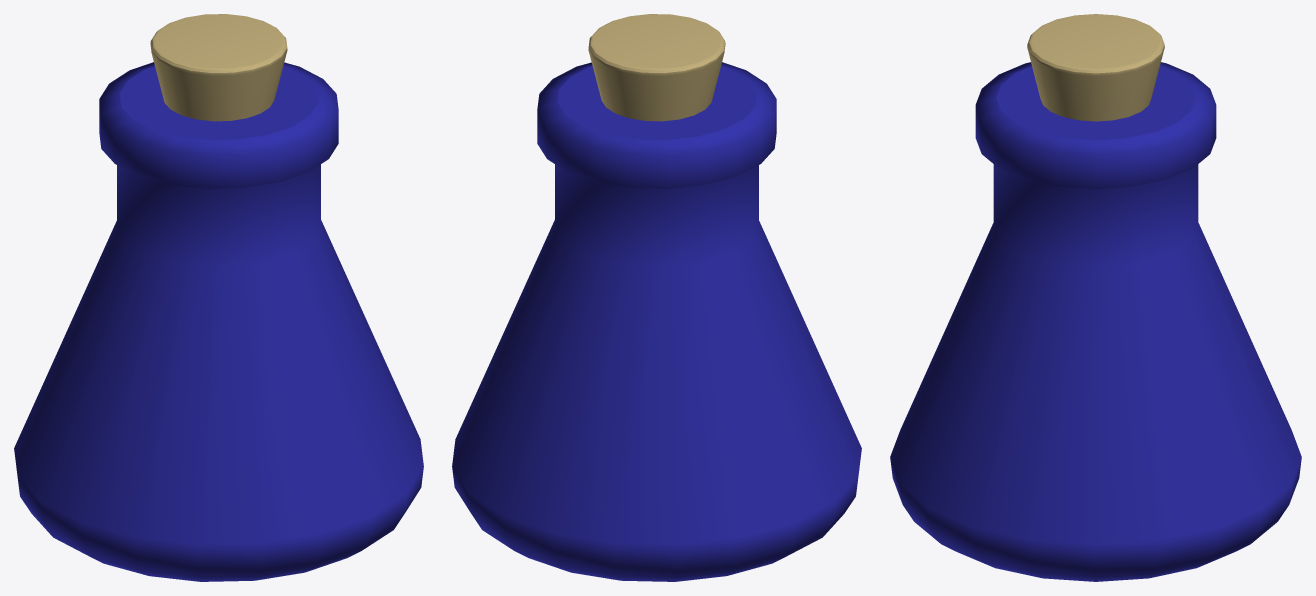
Rendered from PotionBlue.fbx.
3 renders of one model, left to right at view 1: azimuth 30°, elevation 25°; view 2: azimuth 150°, elevation 25°; view 3: azimuth 270°, elevation 25°, orthographic.
Visible parts, largest first — view 1: pCylinder1; view 2: pCylinder1; view 3: pCylinder1.
Part boxes in pixels (box(x1,y1,x2,y2)): pCylinder1: box(14, 14, 423, 581); pCylinder1: box(452, 14, 861, 581); pCylinder1: box(890, 14, 1301, 581).
Size of the model in its own units: 2.33 by 2.96 by 2.33.
